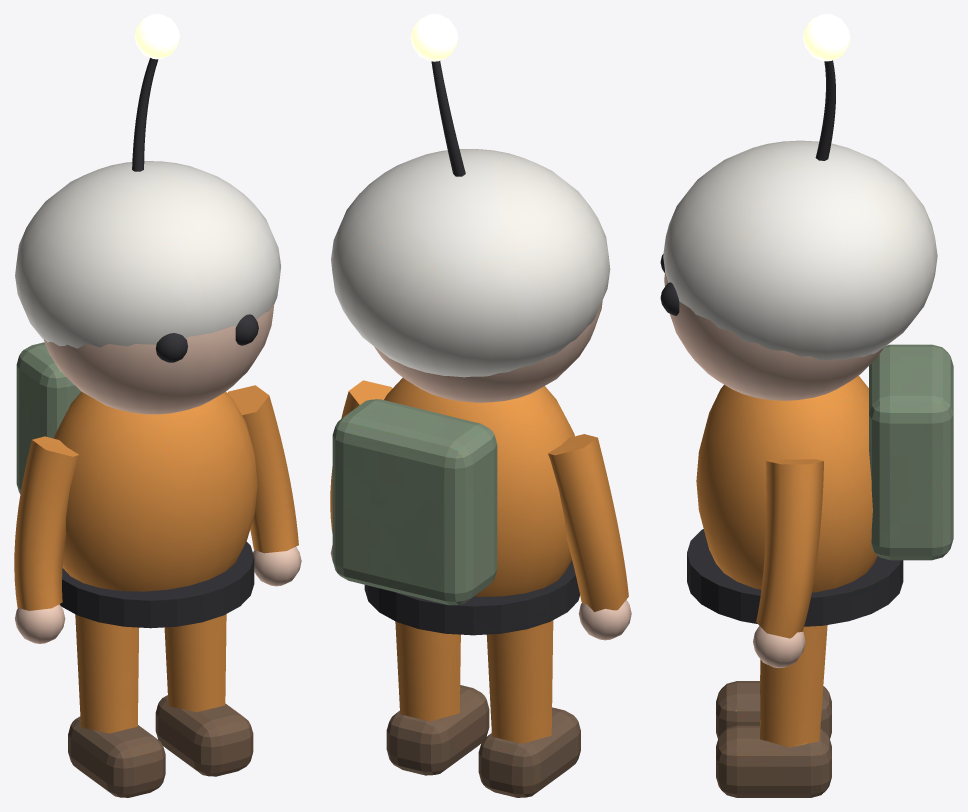
The model's file is runner.glb.
3 renders of one model, left to right at view 1: azimuth 30°, elevation 25°; view 2: azimuth 150°, elevation 25°; view 3: azimuth 270°, elevation 25°, orthographic. The views are drawn at different scales.
Visible parts, largest first — view 1: Body, LegR, LegL, ArmR, ArmL; view 2: Body, LegR, LegL, ArmR, ArmL; view 3: Body, LegL, ArmL, LegR.
Part boxes in pixels (x1=…): Body: x1=15, y1=14, x2=280, y2=628; LegR: x1=68, y1=614, x2=165, y2=797; LegL: x1=155, y1=614, x2=253, y2=776; ArmR: x1=14, y1=436, x2=79, y2=643; ArmL: x1=228, y1=385, x2=301, y2=586; Body: x1=331, y1=14, x2=610, y2=635; LegR: x1=478, y1=620, x2=580, y2=797; LegL: x1=386, y1=621, x2=489, y2=775; ArmR: x1=548, y1=434, x2=631, y2=640; ArmL: x1=330, y1=380, x2=392, y2=562; Body: x1=660, y1=14, x2=953, y2=626; LegL: x1=716, y1=625, x2=831, y2=797; ArmL: x1=753, y1=459, x2=823, y2=668; LegR: x1=716, y1=675, x2=831, y2=738.
Size of the model in its own units: 0.64 by 1.59 by 0.555.
1 material, 1 textured.
